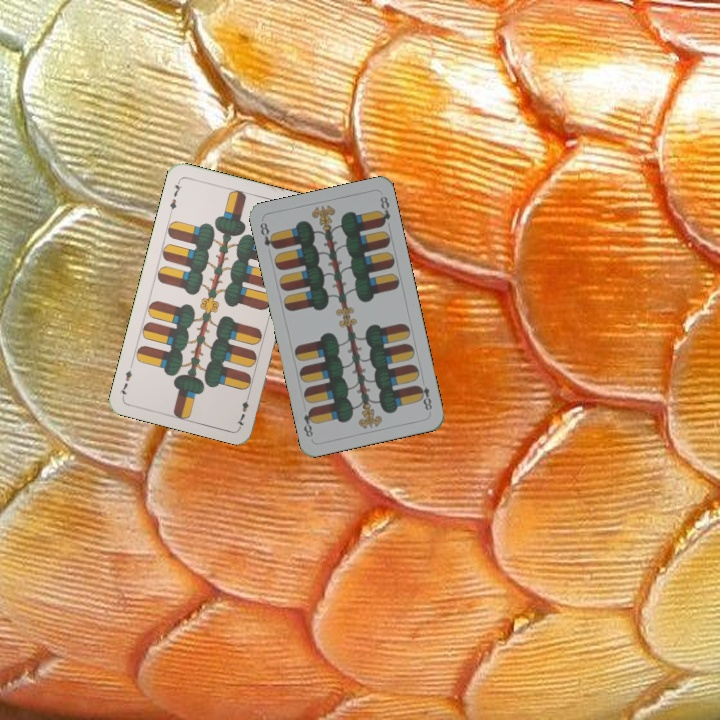E7: (232, 389, 252, 429), (166, 177, 184, 217)
E8: (256, 218, 279, 252), (413, 381, 434, 413)
